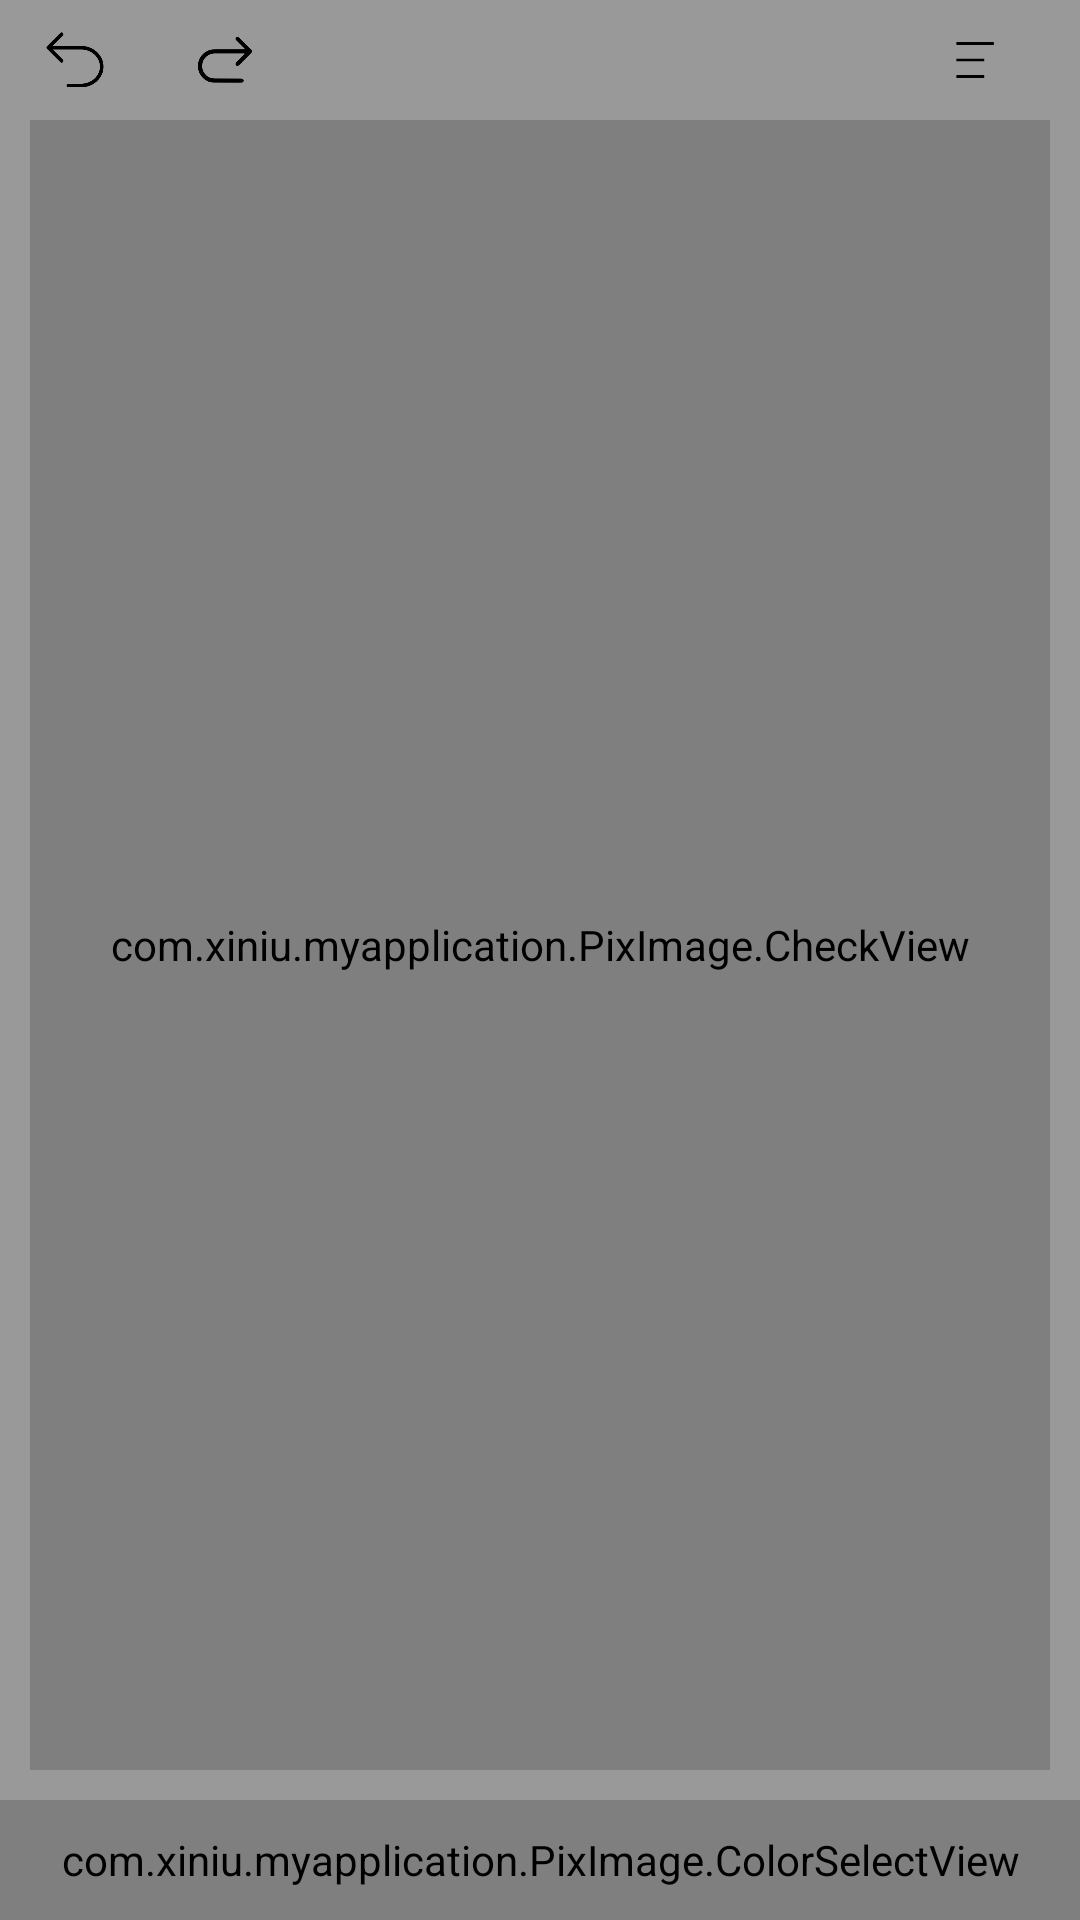

Icons on this 1080 x 1920 Android screen, each with its box as bbox(x1, y1, x2, y2):
next draw: bbox(198, 37, 252, 83)
previous draw: bbox(46, 32, 104, 87)
